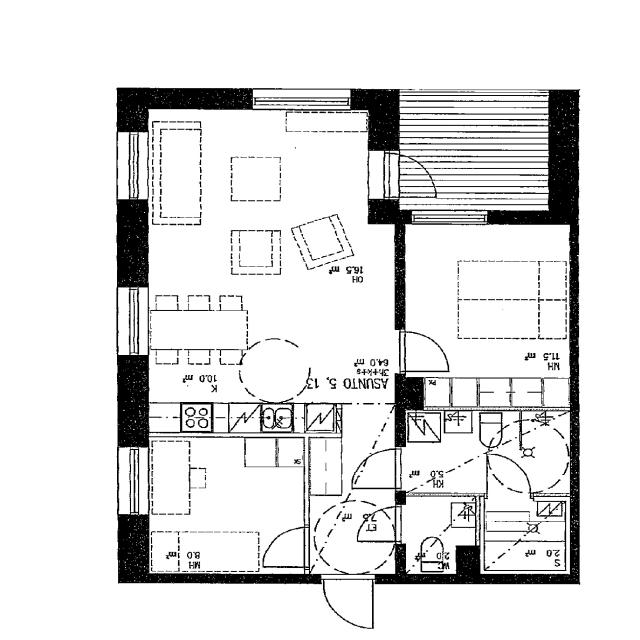door: (319, 575, 377, 631), (394, 326, 453, 376), (256, 522, 310, 569), (394, 151, 440, 205), (351, 446, 400, 492), (486, 449, 533, 495), (353, 503, 402, 542)
window: (116, 443, 153, 521), (116, 130, 150, 206), (405, 208, 492, 230)
zone: (409, 218, 574, 412), (140, 430, 310, 576), (398, 410, 488, 497), (477, 495, 569, 576), (398, 495, 478, 576), (525, 408, 570, 498), (394, 325, 455, 377), (403, 208, 494, 229)
